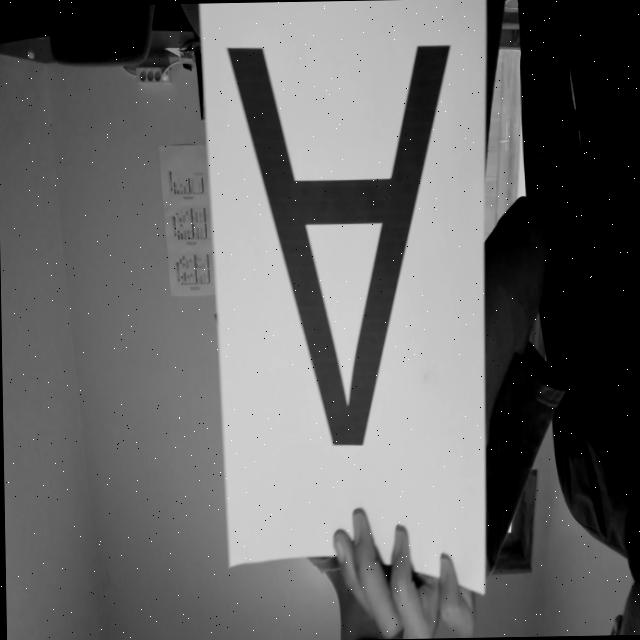a: (216, 15, 468, 472)
